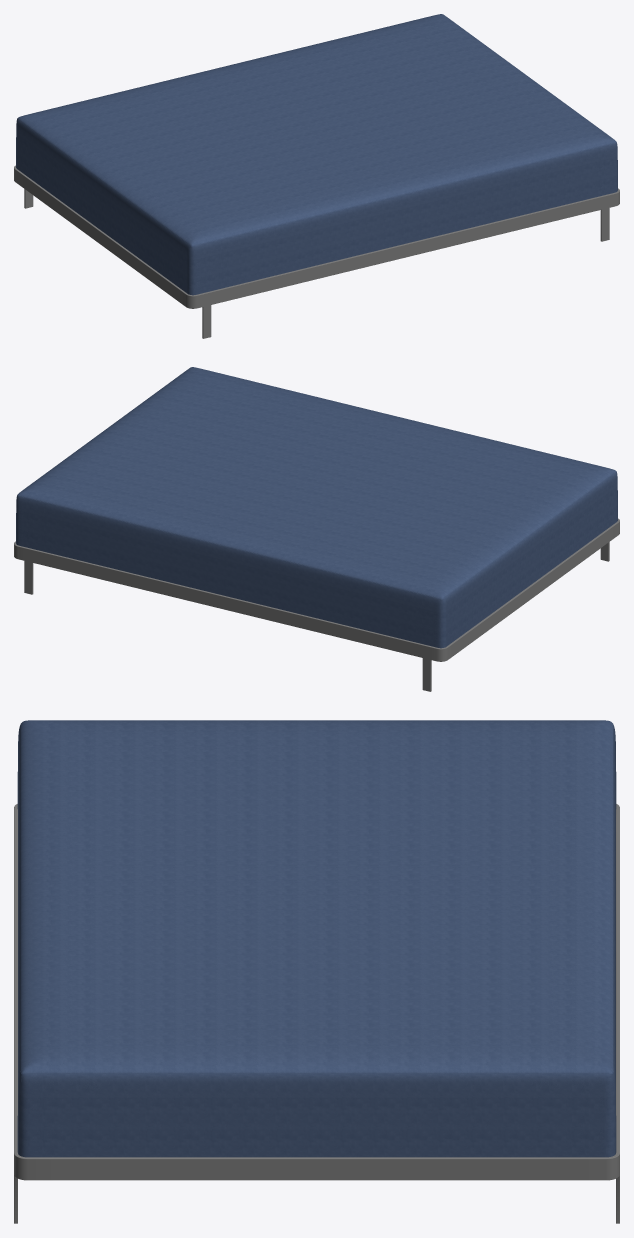
File: bed.obj
The picture shows the model from 3 angles, top to bottom: view 1: azimuth 30°, elevation 25°; view 2: azimuth 150°, elevation 25°; view 3: azimuth 270°, elevation 25°; orthographic projection. The views are drawn at different scales.
Parts seen in each view (by area): view 1: ka_design_m6_bed; view 2: ka_design_m6_bed; view 3: ka_design_m6_bed.
Part boxes in pixels (box(x1,y1,x2,y2)): ka_design_m6_bed: box(14, 14, 619, 338); ka_design_m6_bed: box(14, 367, 619, 691); ka_design_m6_bed: box(14, 720, 619, 1223).
Bounding box in the file's own units: 212 × 46.5 × 152.
Materials: 2 (1 with a texture image).
